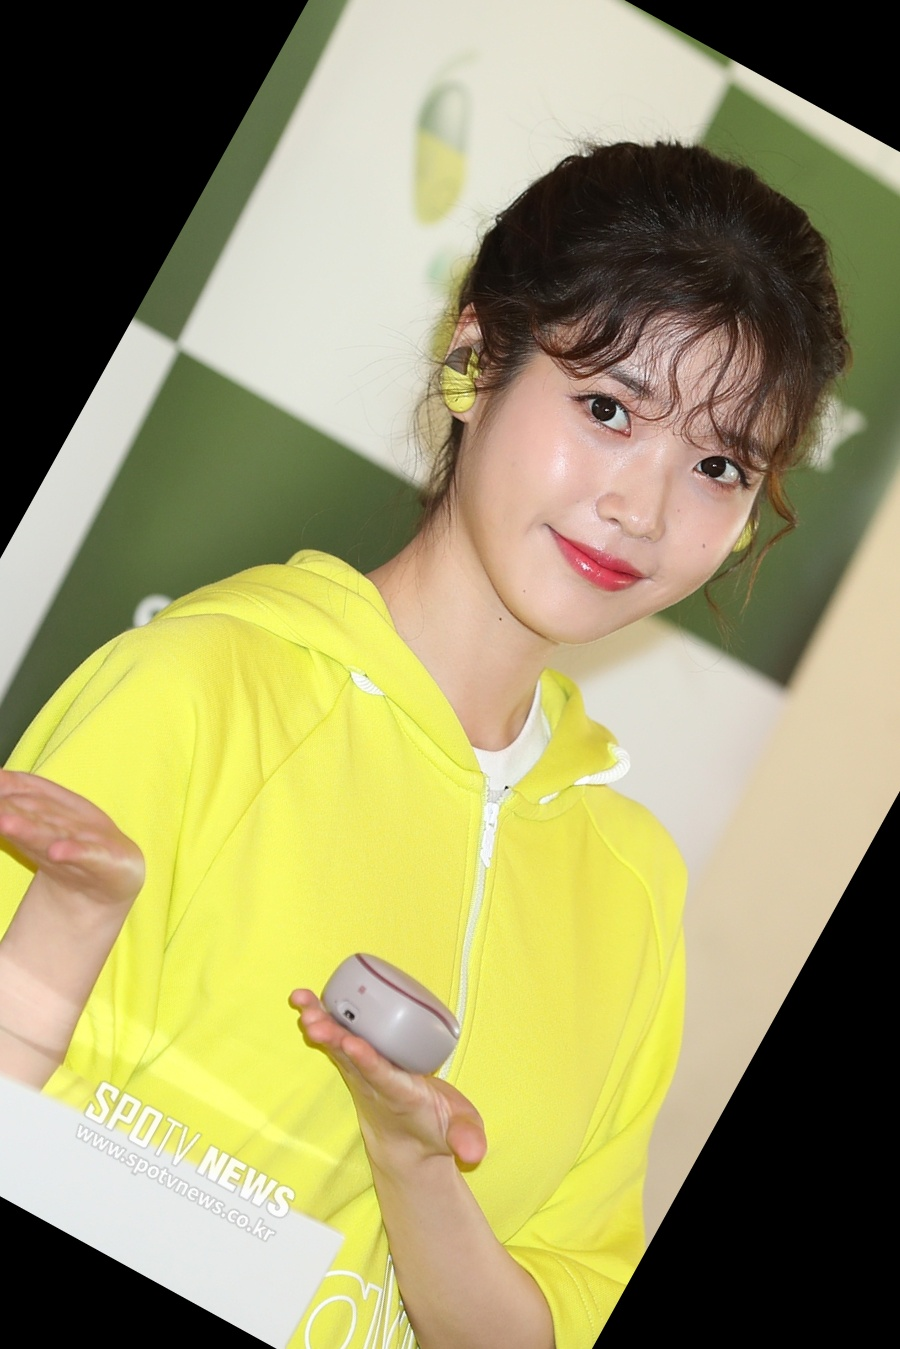earphone: (416, 302, 523, 427)
